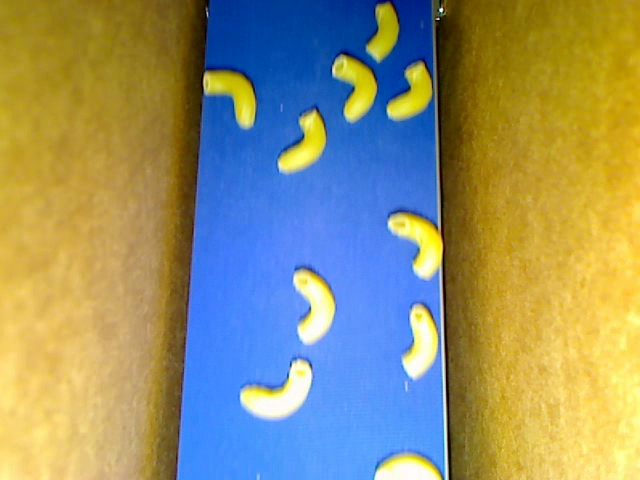elbow: (240, 356, 312, 420), (387, 210, 443, 281), (292, 268, 336, 345), (201, 70, 257, 130), (331, 54, 378, 124), (277, 109, 327, 173), (400, 302, 438, 381), (386, 61, 432, 122), (366, 3, 399, 63), (373, 451, 443, 479)
